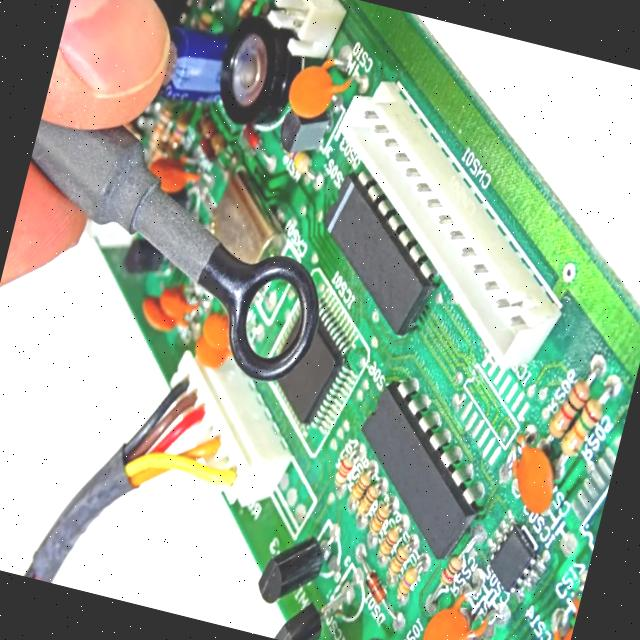IC: (332, 382, 500, 560), (306, 188, 447, 324), (478, 518, 554, 602)
resistor: (544, 360, 596, 446), (558, 388, 610, 467), (328, 443, 360, 492), (384, 533, 414, 584), (437, 550, 471, 594), (342, 462, 373, 506), (373, 518, 400, 566), (391, 560, 419, 606), (366, 496, 392, 538), (356, 480, 382, 520)
transistor: (252, 503, 350, 615), (265, 560, 367, 640), (274, 94, 340, 164)
